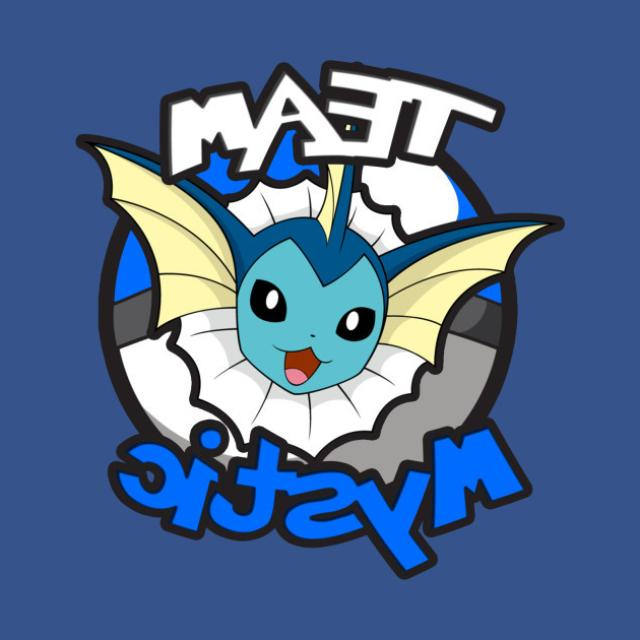Vaporeon: (76, 154, 542, 456)
